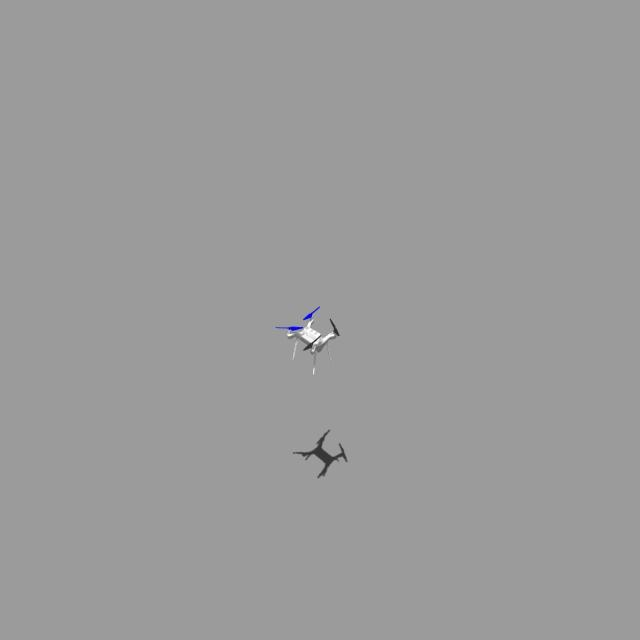Drone: (273, 296, 343, 378)
